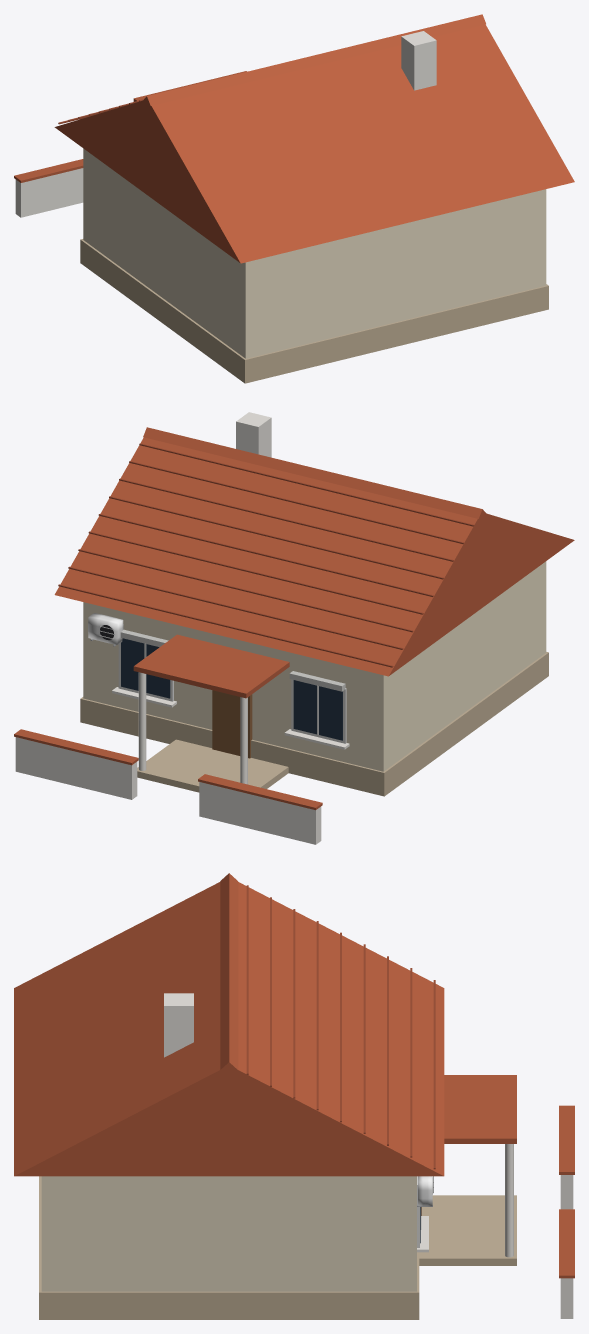
Rendered from house_roof.glb.
3 views of the same model, one above another, from view 1: azimuth 30°, elevation 25°; view 2: azimuth 150°, elevation 25°; view 3: azimuth 270°, elevation 25° (orthographic). The views are drawn at different scales.
Parts seen in each view (by area): view 1: housemesh.001; view 2: housemesh.001; view 3: housemesh.001.
Part boxes in pixels (x1,y1,x2,y2): housemesh.001: (14, 14, 574, 383); housemesh.001: (14, 412, 574, 844); housemesh.001: (14, 873, 574, 1319).
Bounding box in the file's own units: 8.94 × 6.2 × 11.21.
